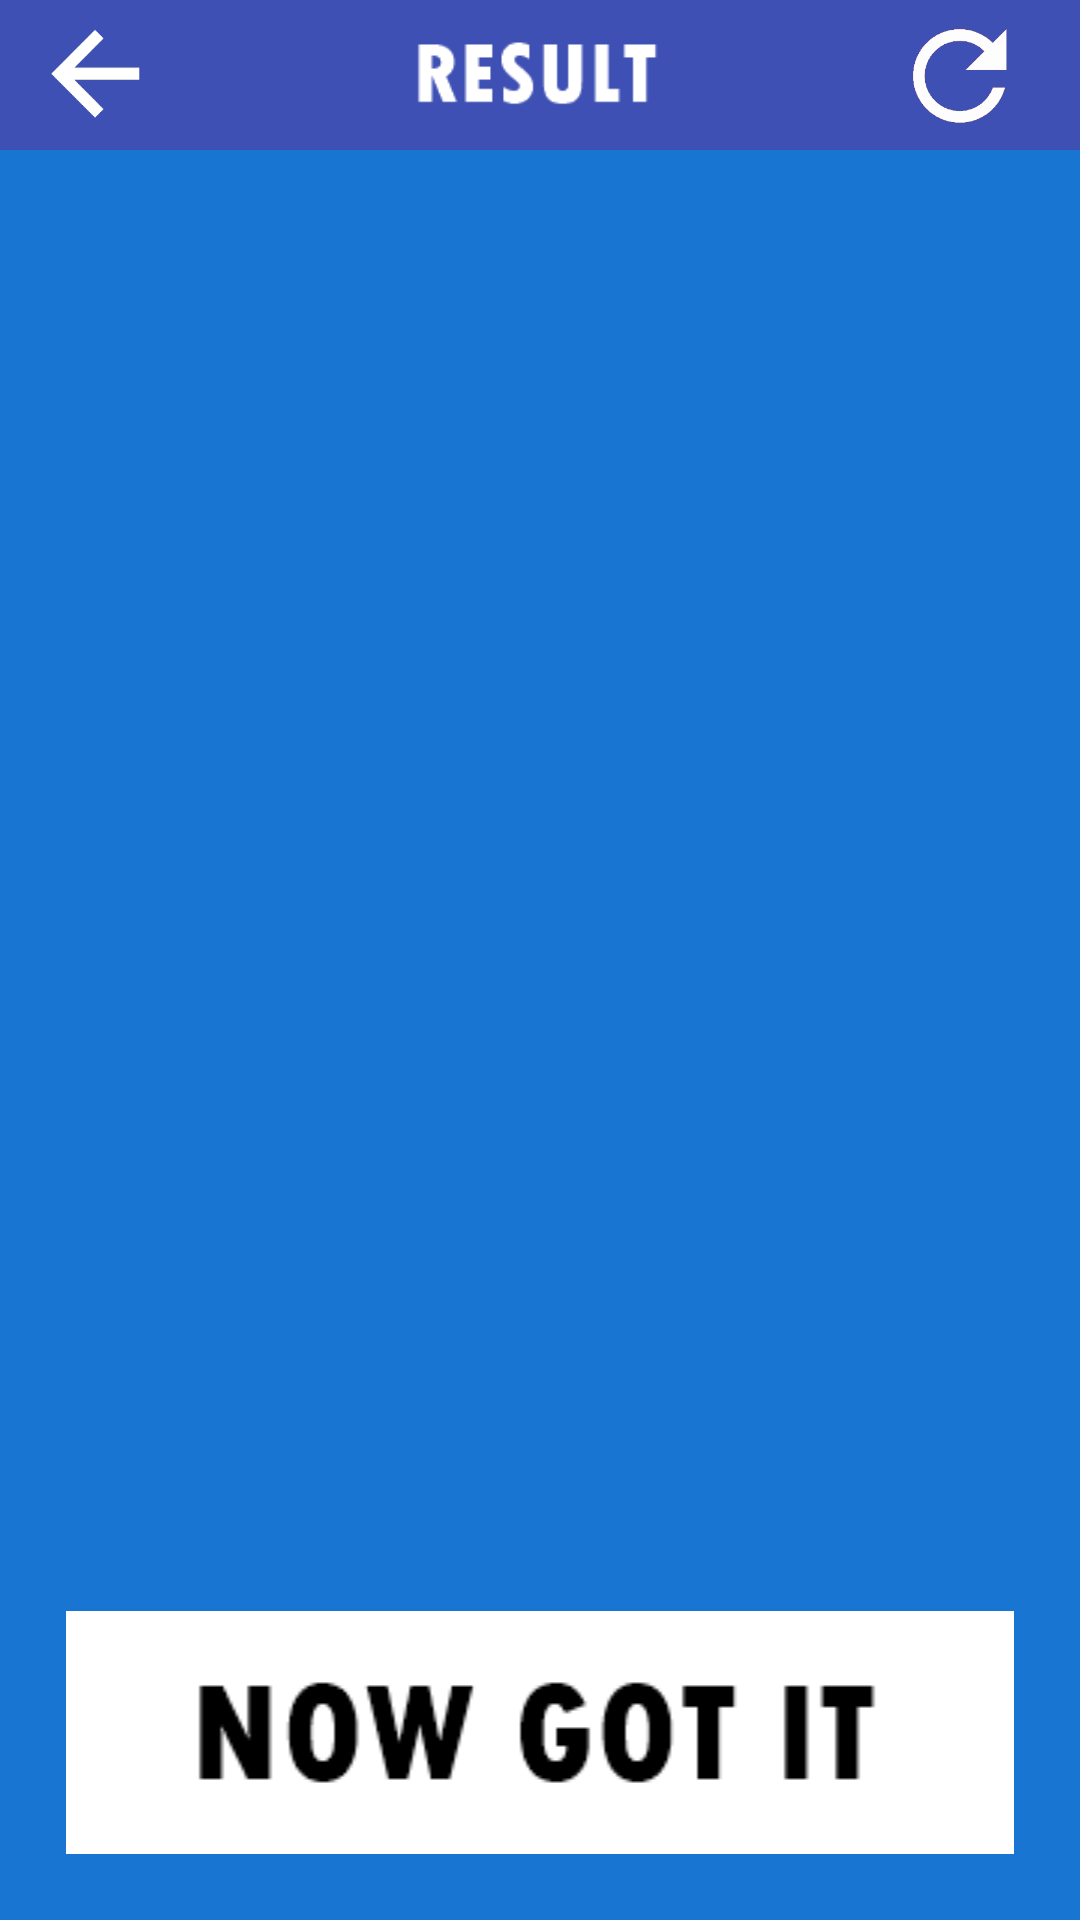

Where icons sit on this 1080w x 1920h app screen, as (x1, y1, x2, y2):
back: (51, 30, 140, 118)
reload: (913, 29, 1007, 123)
